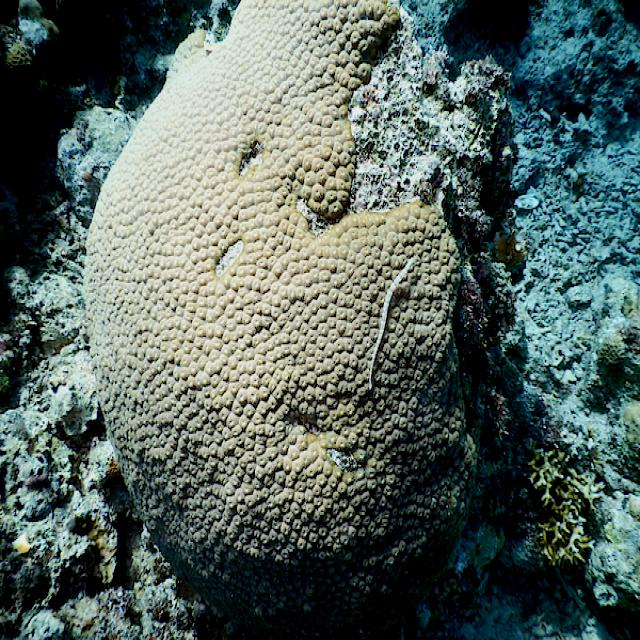Coral: (83, 0, 477, 640)
